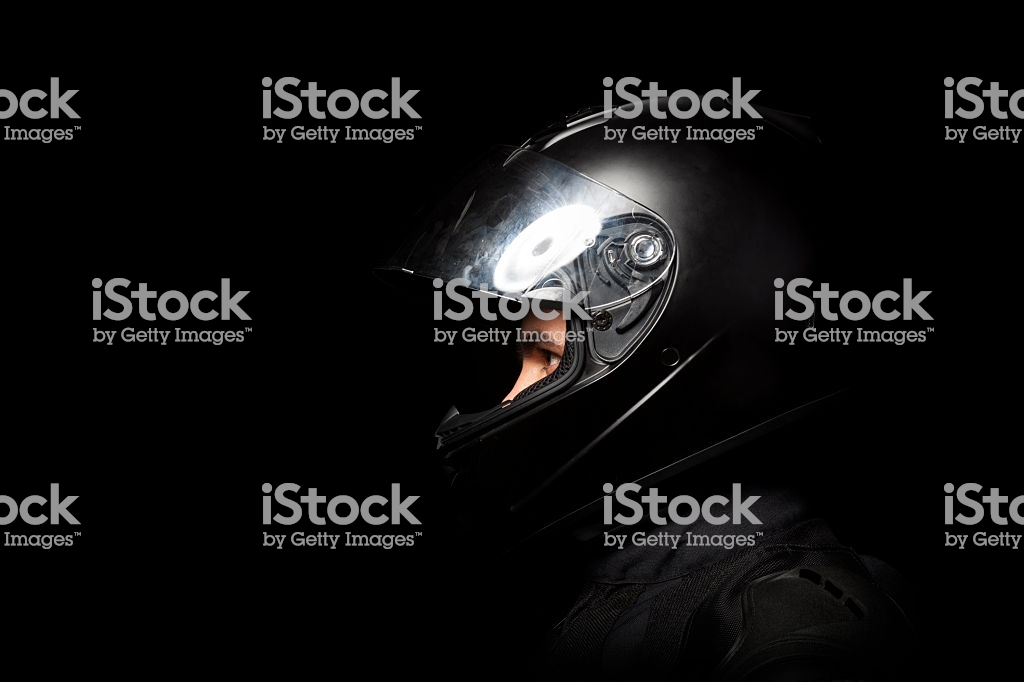helmet: (440, 115, 826, 477)
